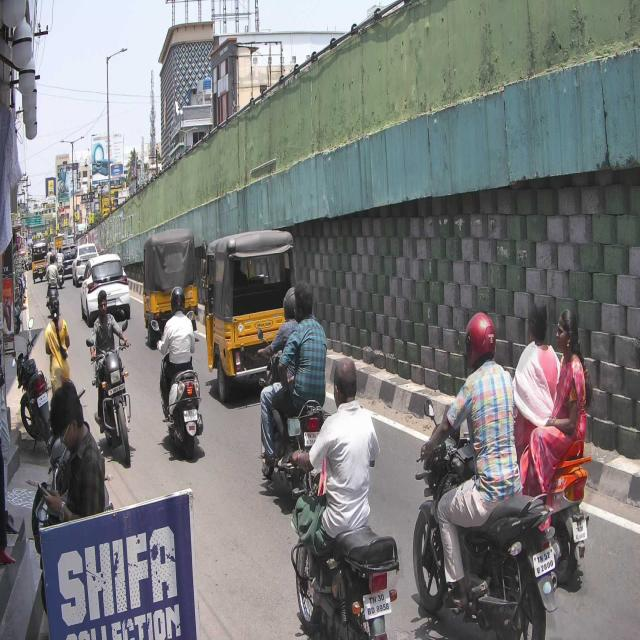single_rider: (412, 308, 558, 640), (282, 356, 402, 640), (85, 290, 138, 468), (151, 286, 205, 458)
